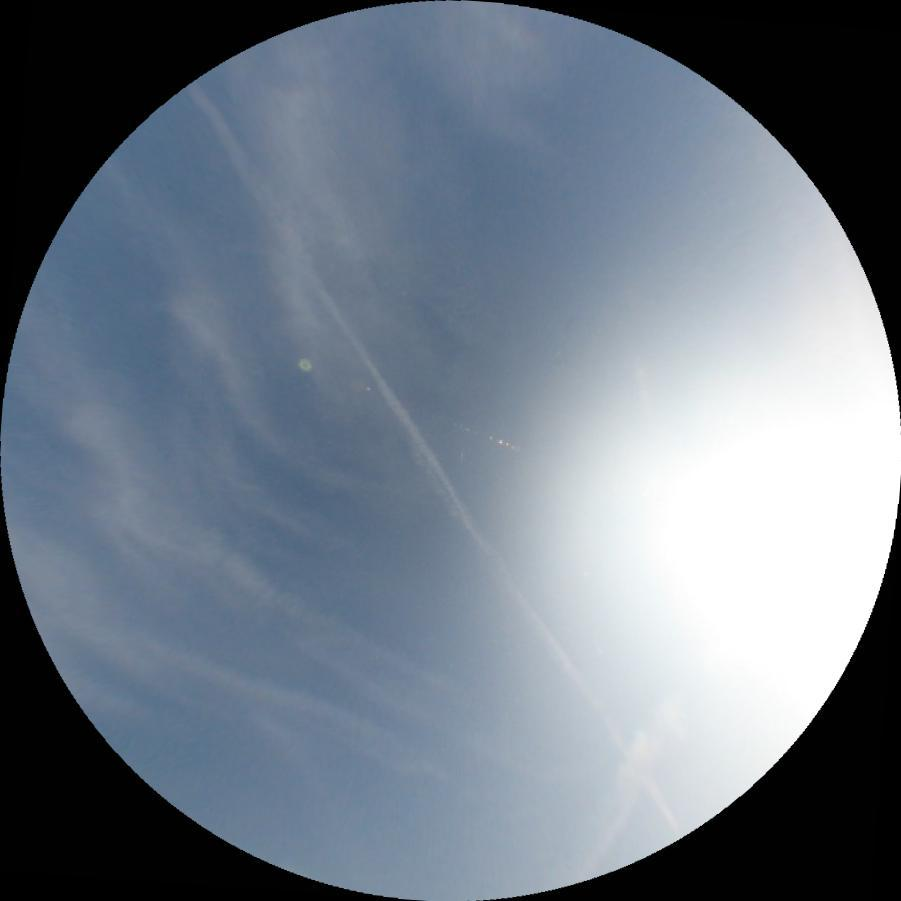contrail veryold: (175, 80, 685, 843), (109, 487, 611, 820), (107, 621, 452, 800), (552, 687, 695, 888)
sun: (636, 413, 901, 697)
